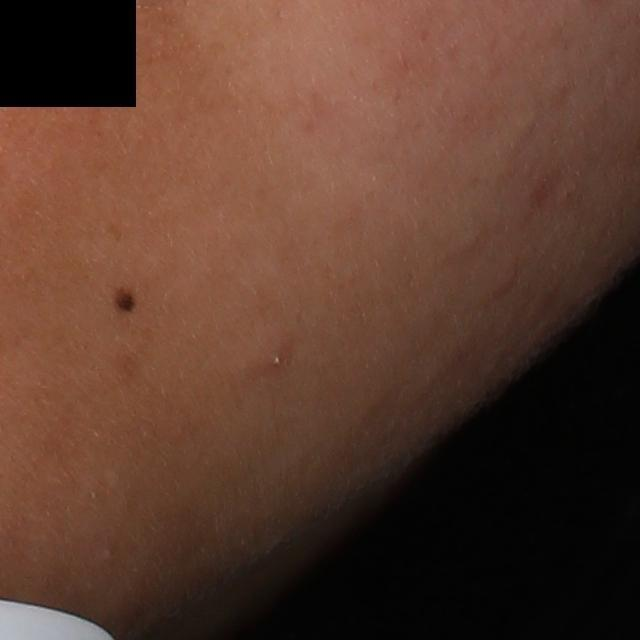nevus: (110, 287, 138, 313)
